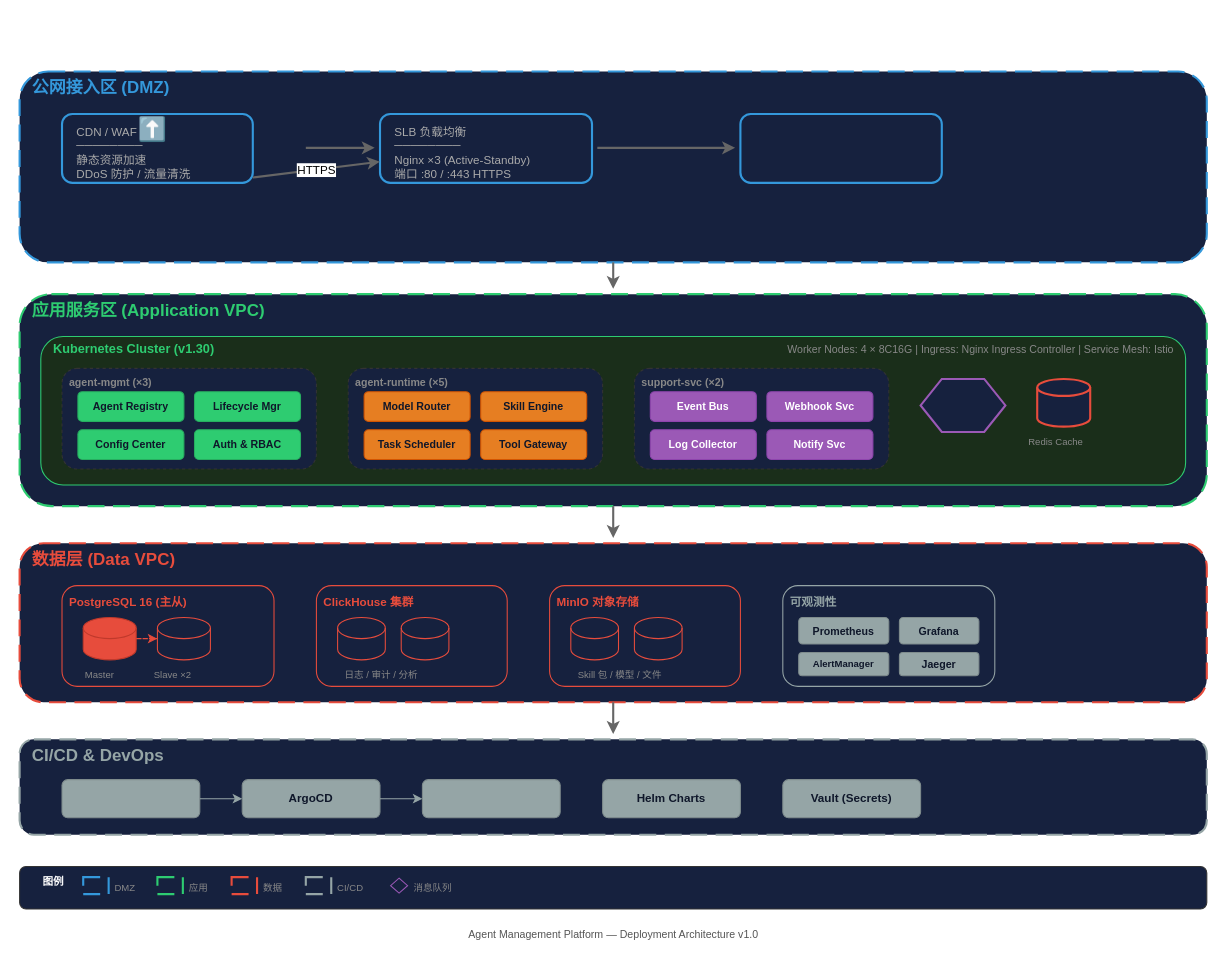
This 1225x961 diagram has some shape labels left out. Each missing label, with the centre of its shape:
"API Gateway ──────── Kong / APISIX ×2 限流熔断 / 认证鉴权" belongs at (x=840, y=147).
"GitLab CI" belongs at (x=130, y=798).
"Harbor Registry" belongs at (x=490, y=798).
"消息队列 RabbitMQ" belongs at (x=962, y=404).
